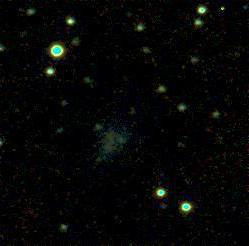star: (212, 0, 242, 30)
